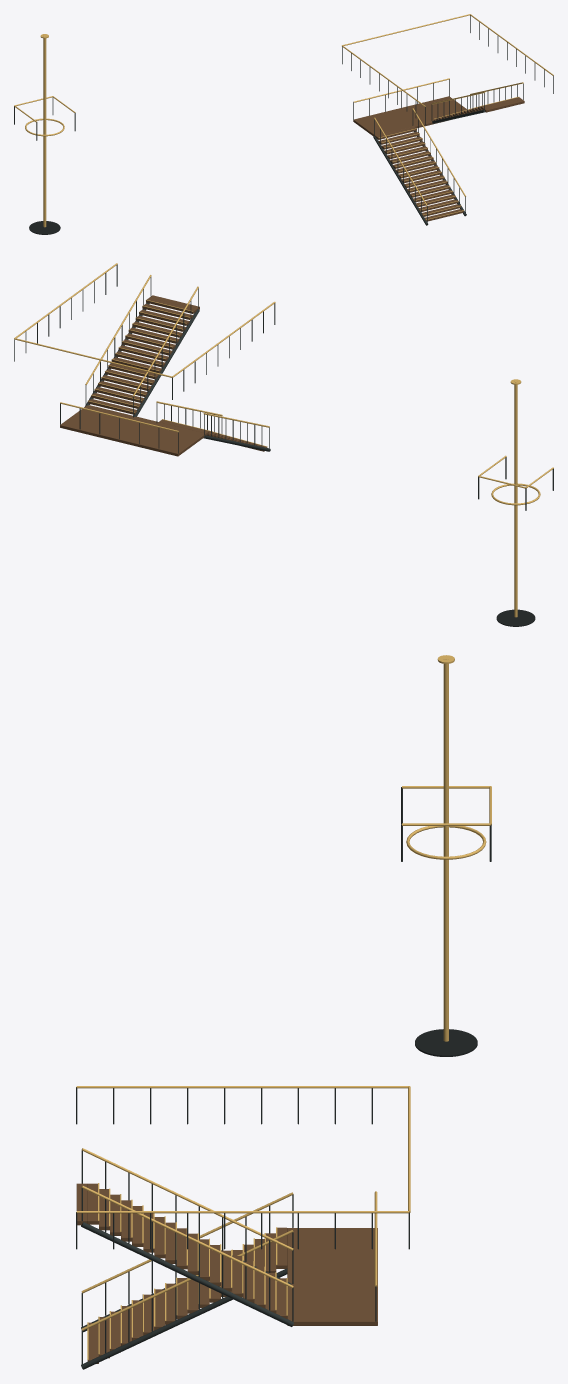
Rendered from stairs-and-pole.glb.
3 views of the same model, one above another, from view 1: azimuth 30°, elevation 25°; view 2: azimuth 150°, elevation 25°; view 3: azimuth 270°, elevation 25° (orthographic). The views are drawn at different scales.
Parts seen in each view (by area): view 1: Stairs_And_Pole__Smoked oak, Stairs_And_Pole__Brushed warm brass, Stairs_And_Pole__Graphite, FirePole_Gold, Stairs_And_Pole__Rubber; view 2: Stairs_And_Pole__Smoked oak, Stairs_And_Pole__Brushed warm brass, Stairs_And_Pole__Graphite, FirePole_Gold, Stairs_And_Pole__Rubber; view 3: Stairs_And_Pole__Smoked oak, Stairs_And_Pole__Brushed warm brass, Stairs_And_Pole__Graphite, FirePole_Gold, Stairs_And_Pole__Rubber.
Boxes of the visible parts, <box> form: Stairs_And_Pole__Smoked oak: <box>353,96,524,221</box>; Stairs_And_Pole__Brushed warm brass: <box>14,14,553,219</box>; Stairs_And_Pole__Graphite: <box>14,15,553,225</box>; FirePole_Gold: <box>43,35,46,227</box>; Stairs_And_Pole__Rubber: <box>29,221,60,234</box>; Stairs_And_Pole__Smoked oak: <box>60,295,267,456</box>; Stairs_And_Pole__Brushed warm brass: <box>14,263,553,505</box>; Stairs_And_Pole__Graphite: <box>14,264,553,510</box>; FirePole_Gold: <box>514,380,517,617</box>; Stairs_And_Pole__Rubber: <box>496,609,535,626</box>; Stairs_And_Pole__Smoked oak: <box>76,1183,377,1363</box>; Stairs_And_Pole__Brushed warm brass: <box>76,655,491,1359</box>; Stairs_And_Pole__Graphite: <box>76,787,491,1369</box>; FirePole_Gold: <box>443,657,448,1041</box>; Stairs_And_Pole__Rubber: <box>415,1029,477,1056</box>.
Bounding box in the file's own units: 27.27 × 11.62 × 11.25.
